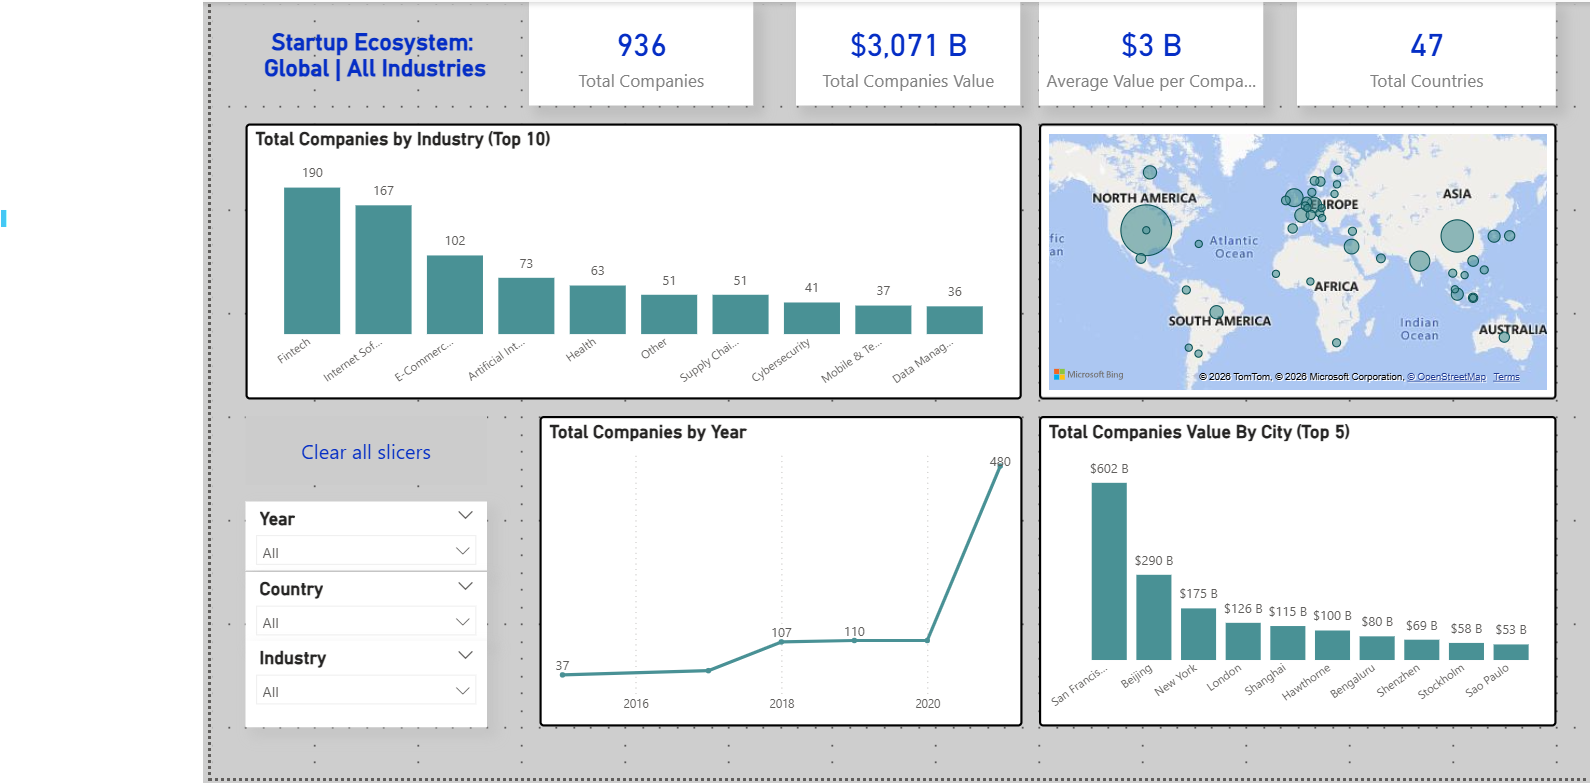

The page's visual inventory and layout, read from the dashboard file:
{"tool":"powerbi","page":{"name":"Page 1","canvas":[1280,720],"ordinal":0},"visuals":[{"type":"card","fields":{"Values":["Measures (2).Total Companies Value"]},"box":[543.1,0,208,96],"z":0},{"type":"clusteredColumnChart","title":"Total Companies Value By City (Top 5)","fields":{"Y":["Measures (2).Total Companies Value"],"Category":["startups.City 3"]},"box":[768,384,480,288],"z":1000},{"type":"card","fields":{"Values":["Medidas.Total Companies"]},"box":[294.7,0,208,96],"z":2000},{"type":"card","fields":{"Values":["Medidas.Average Value per Companie"]},"box":[768,0,208,96],"z":3000},{"type":"card","fields":{"Values":["Medidas.Total Countries"]},"box":[1008,0,240,96],"z":4000},{"type":"clusteredColumnChart","title":"Total Companies by Industry (Top 10)","fields":{"Y":["Medidas.Total Companies"],"Category":["startups.Industry"]},"box":[32,112,720,256],"z":5000},{"type":"slicer","fields":{"Values":["Calendar.Year"]},"box":[32,464,224,64],"z":6000},{"type":"slicer","fields":{"Values":["startups.Country"]},"box":[32,528,224,64],"z":7000},{"type":"slicer","fields":{"Values":["startups.Industry"]},"box":[32,592,224,80],"z":8000},{"type":"map","fields":{"Category":["startups.Country"],"Size":["Medidas.Total Companies"]},"box":[768,112,480,256],"z":9000},{"type":"lineChart","fields":{"Y":["Medidas.Total Companies"],"Category":["Calendar.Year"]},"box":[304,384,448,288],"z":10000},{"type":"actionButton","box":[32,384,224,64],"z":11000},{"type":"card","fields":{"Values":["Medidas.Dashboard Title"]},"box":[32,0,240,96],"z":12000}]}

Visuals, with their boxes in screenshot pixels (x1, y1, x2, y2):
card - Measures (2).Total Companies Value: BBox(793, 0, 1016, 103)
"Total Companies Value By City (Top 5)" clusteredColumnChart: BBox(1034, 412, 1549, 720)
card - Medidas.Total Companies: BBox(527, 0, 750, 103)
card - Medidas.Average Value per Companie: BBox(1034, 0, 1257, 103)
card - Medidas.Total Countries: BBox(1292, 0, 1549, 103)
"Total Companies by Industry (Top 10)" clusteredColumnChart: BBox(245, 120, 1017, 394)
slicer - Calendar.Year: BBox(245, 497, 486, 566)
slicer - startups.Country: BBox(245, 566, 486, 635)
slicer - startups.Industry: BBox(245, 635, 486, 720)
map - startups.Country x Medidas.Total Companies: BBox(1034, 120, 1549, 394)
lineChart - Medidas.Total Companies x Calendar.Year: BBox(537, 412, 1017, 720)
actionButton: BBox(245, 412, 486, 480)
card - Medidas.Dashboard Title: BBox(245, 0, 503, 103)
